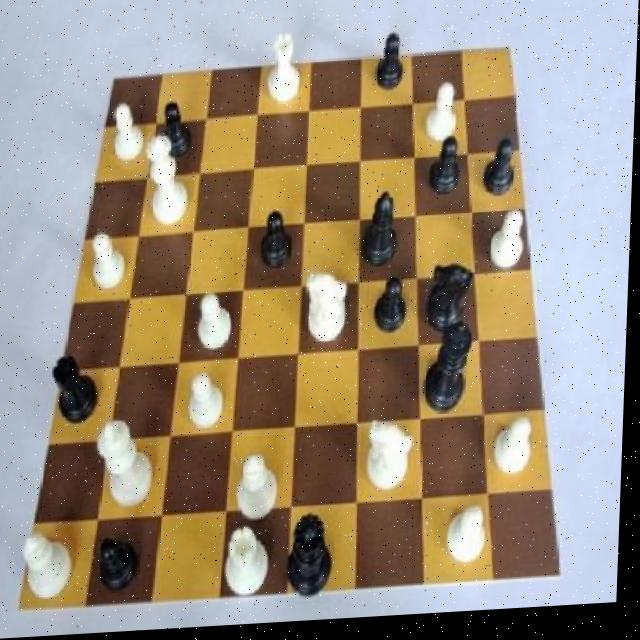bishop: (356, 195, 404, 277)
black-bishop: (424, 325, 478, 422)
black-king: (420, 265, 480, 346)
black-knight: (98, 523, 152, 603), (368, 33, 411, 109), (255, 209, 302, 278), (427, 139, 470, 211), (157, 102, 200, 169), (374, 282, 415, 348), (484, 137, 520, 206)
black-pawn: (285, 511, 346, 613)
black-queen: (49, 345, 107, 425)
black-rook: (18, 526, 89, 600), (235, 451, 286, 532)
white-bishop: (96, 413, 165, 519)
white-king: (366, 412, 421, 505), (303, 274, 353, 349)
white-knight: (192, 281, 240, 357), (450, 507, 498, 578), (496, 422, 543, 491), (185, 376, 233, 441), (423, 89, 467, 158), (107, 102, 150, 172), (490, 212, 533, 282), (90, 232, 134, 294)
white-pawn: (144, 121, 195, 231)
white-queen: (259, 26, 307, 117), (225, 528, 279, 606)
